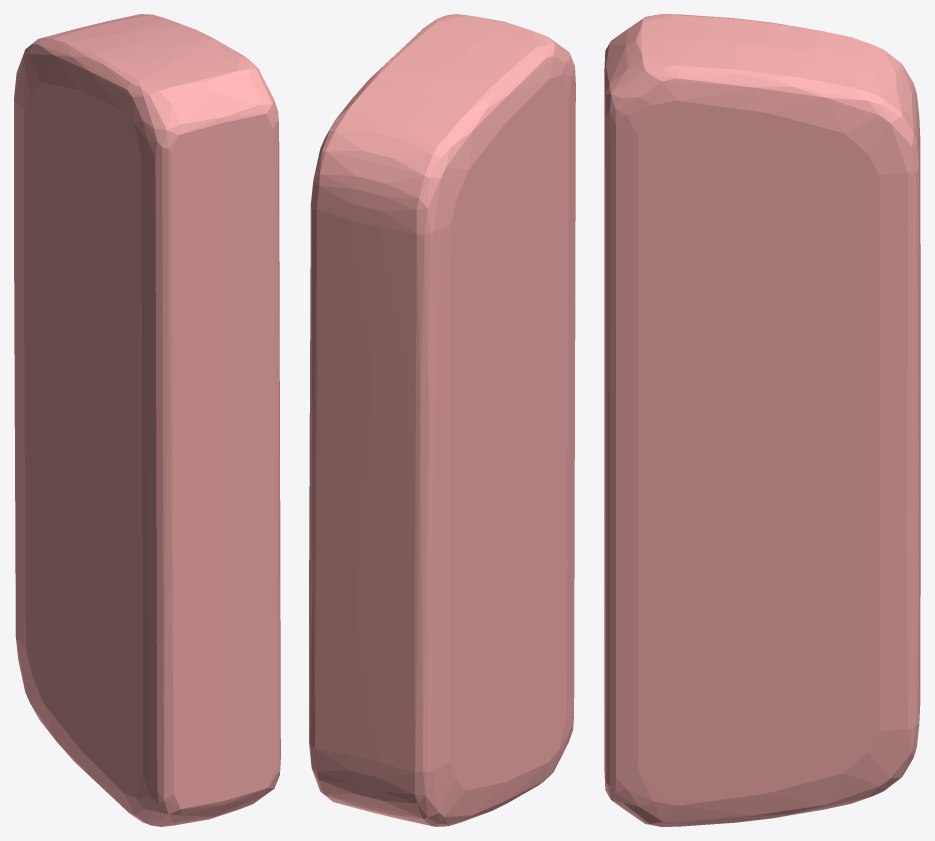
File: panda_FrankaGripper_coll_1.dae
The picture shows the model from 3 angles, left to right: view 1: azimuth 30°, elevation 25°; view 2: azimuth 150°, elevation 25°; view 3: azimuth 270°, elevation 25°; orthographic projection. The views are drawn at different scales.
Parts seen in each view (by area): view 1: node; view 2: node; view 3: node.
Boxes of the visible parts, x1,y1,x2,y2 form: node: [14, 14, 280, 826]; node: [309, 14, 575, 826]; node: [604, 14, 920, 826].
Bounding box in the file's own units: 0.037 × 0.1981 × 0.0745.
